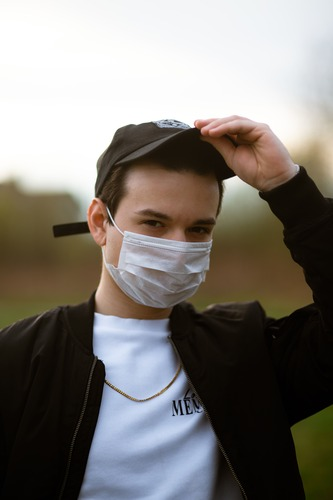with_mask: (110, 150, 213, 295)
